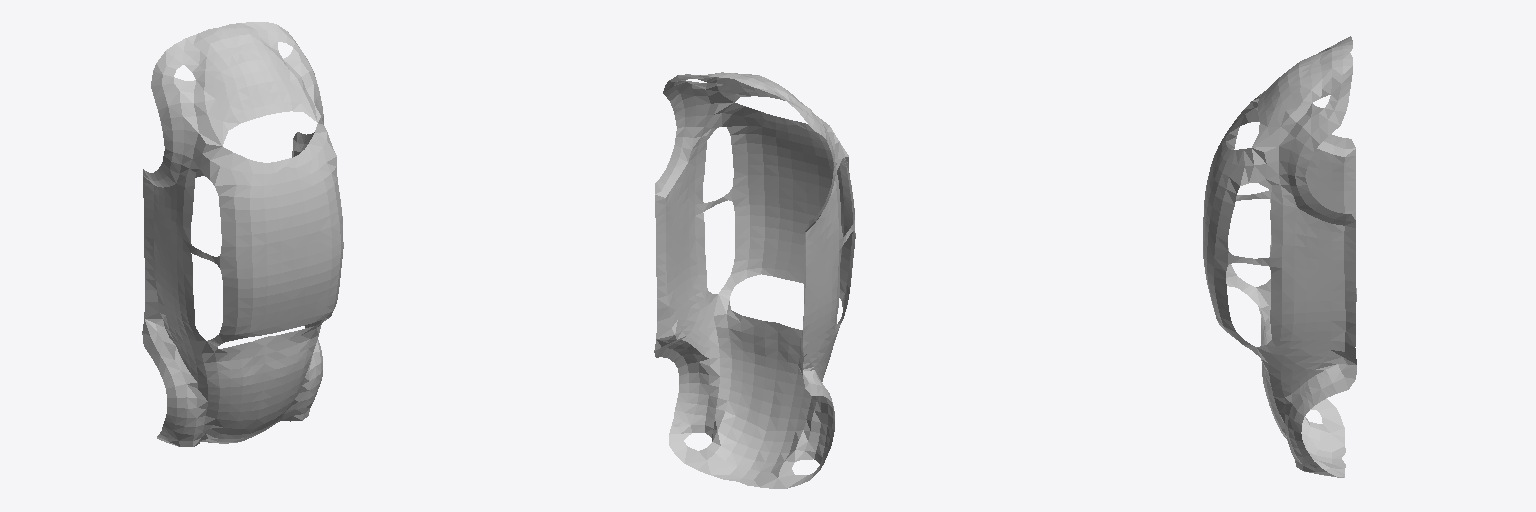
The model's file is beetle_lowres.obj.
The picture shows the model from 3 angles: view 1: azimuth 30°, elevation 25°; view 2: azimuth 150°, elevation 25°; view 3: azimuth 270°, elevation 25°; orthographic projection.
Visible parts, largest first — view 1: beetle.001; view 2: beetle.001; view 3: beetle.001.
Boxes of the visible parts, box(x1,y1,x2,y2) form: beetle.001: box(142, 22, 343, 446); beetle.001: box(654, 72, 855, 488); beetle.001: box(1203, 36, 1356, 477).
Bounding box in the file's own units: 4.54 × 11.21 × 3.85.